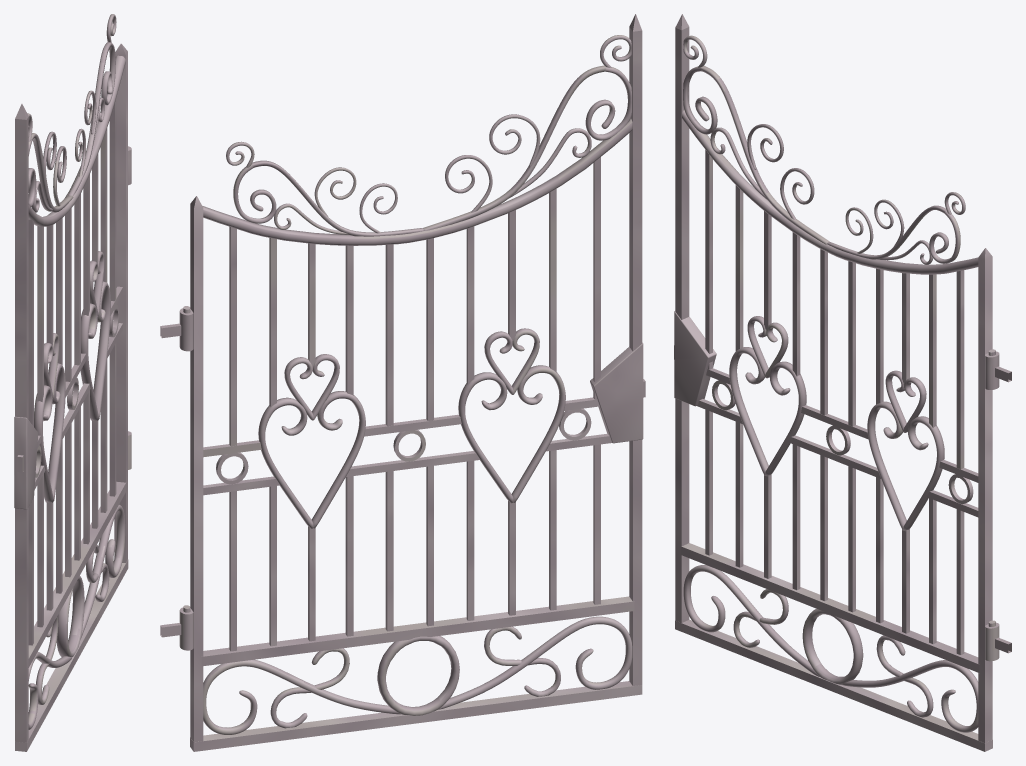
The model's file is puerta1_r.obj.
3 views of the same model, side by side, from view 1: azimuth 30°, elevation 25°; view 2: azimuth 150°, elevation 25°; view 3: azimuth 270°, elevation 25° (orthographic). The views are drawn at different scales.
Visible parts, largest first — view 1: puerta1_r; view 2: puerta1_r; view 3: puerta1_r.
Part boxes in pixels (<box>): puerta1_r: <box>14,14,131,751</box>; puerta1_r: <box>160,14,645,751</box>; puerta1_r: <box>674,14,1011,751</box>.
Size of the model in its own units: 7.16 by 15.3 by 7.62.
